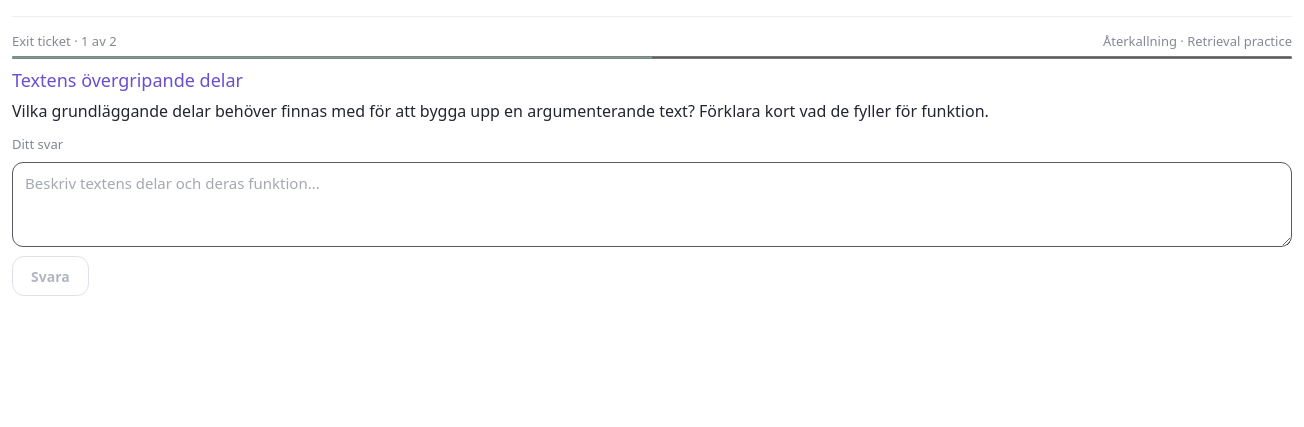
Test: chapter exit ticket › sends a written answer only after the student chooses Svara and advances after feedback
Expected: the heading "Textens övergripande delar" is shown, [12,68,243,92]
Type "Tes, argument och avslutning hjälper läsaren." into the text box labelled "Ditt svar" at [652, 205], box [12,162,1292,247]
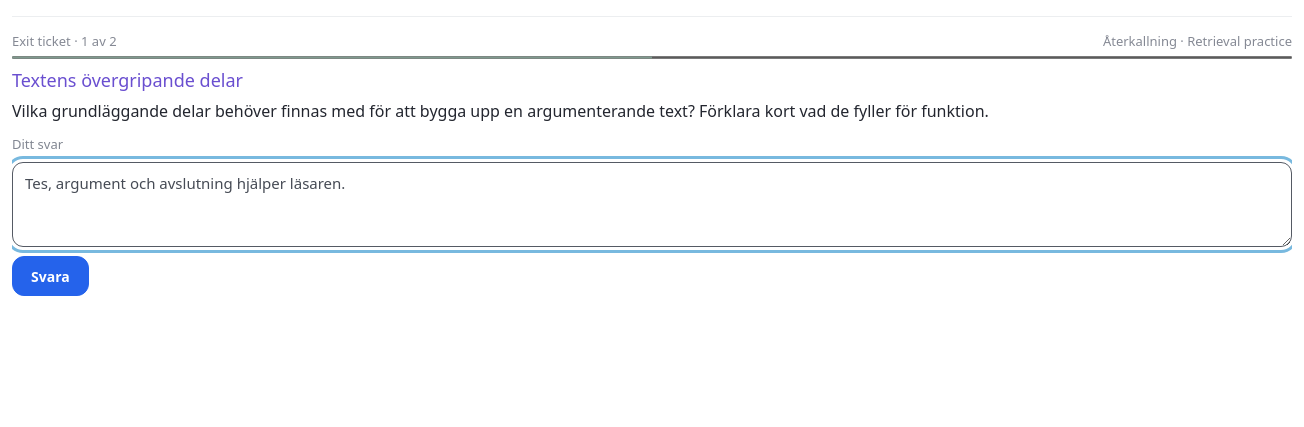
Click the button "Svara" at [50, 276], box [12,256,89,296]
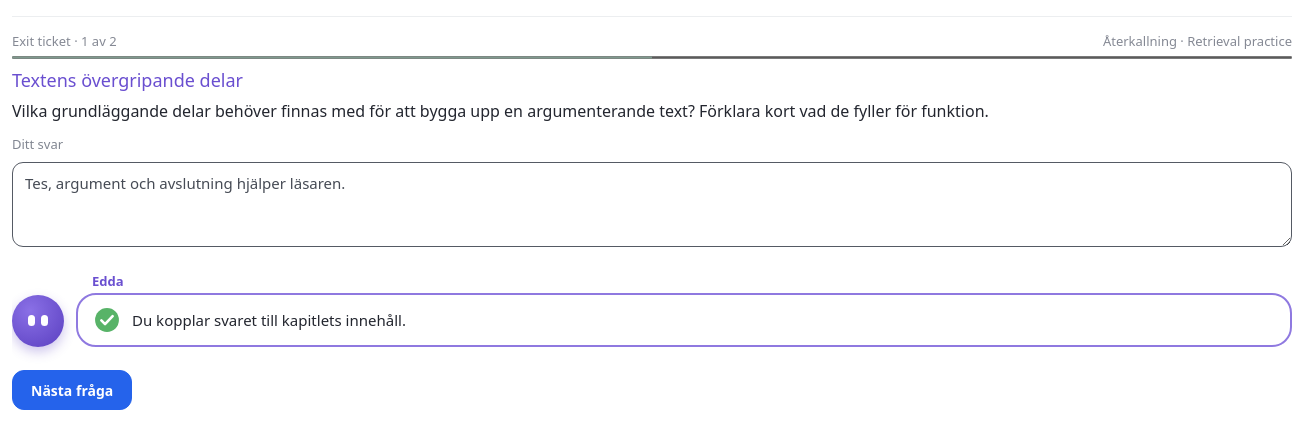
Now the message shows "Du kopplar svaret till kapitlets innehåll.", box [132,310,406,330]
Now the icon with class "is-earned" is shown, box [94,307,120,333]
Click the button "Nästa fråga" at [72, 390], box [12,370,132,410]
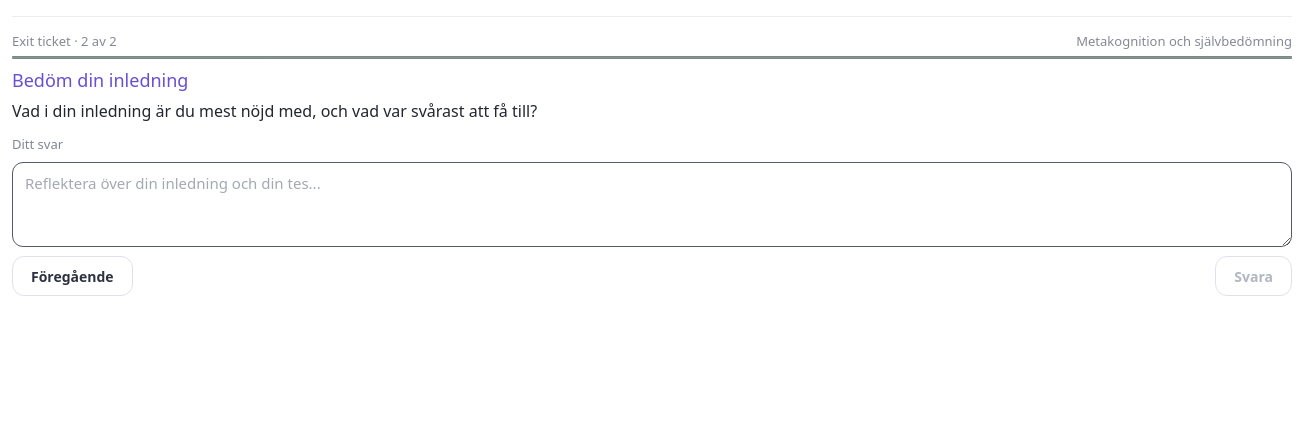
Now the heading "Bedöm din inledning" is shown, box [12,68,188,92]
Now the text box labelled "Ditt svar" is empty, box [12,162,1292,247]
